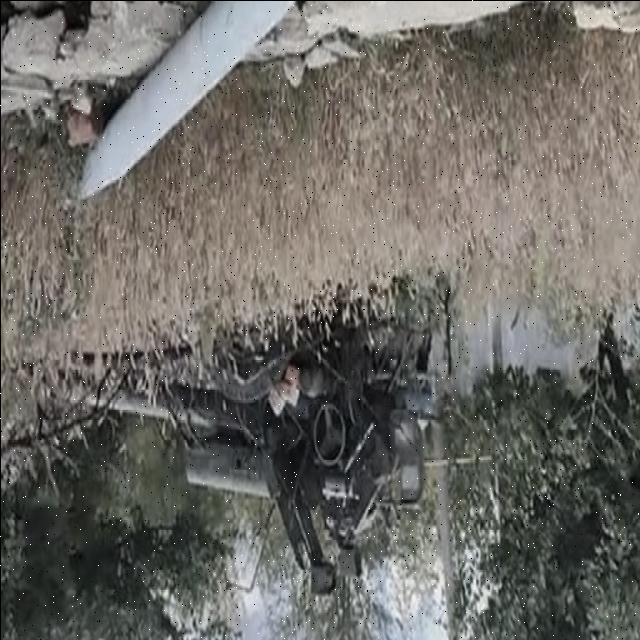ART: (22, 276, 452, 576)
